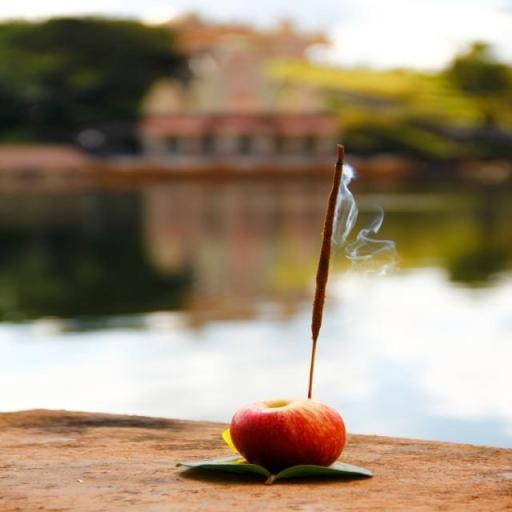fruit: (231, 399, 345, 473)
